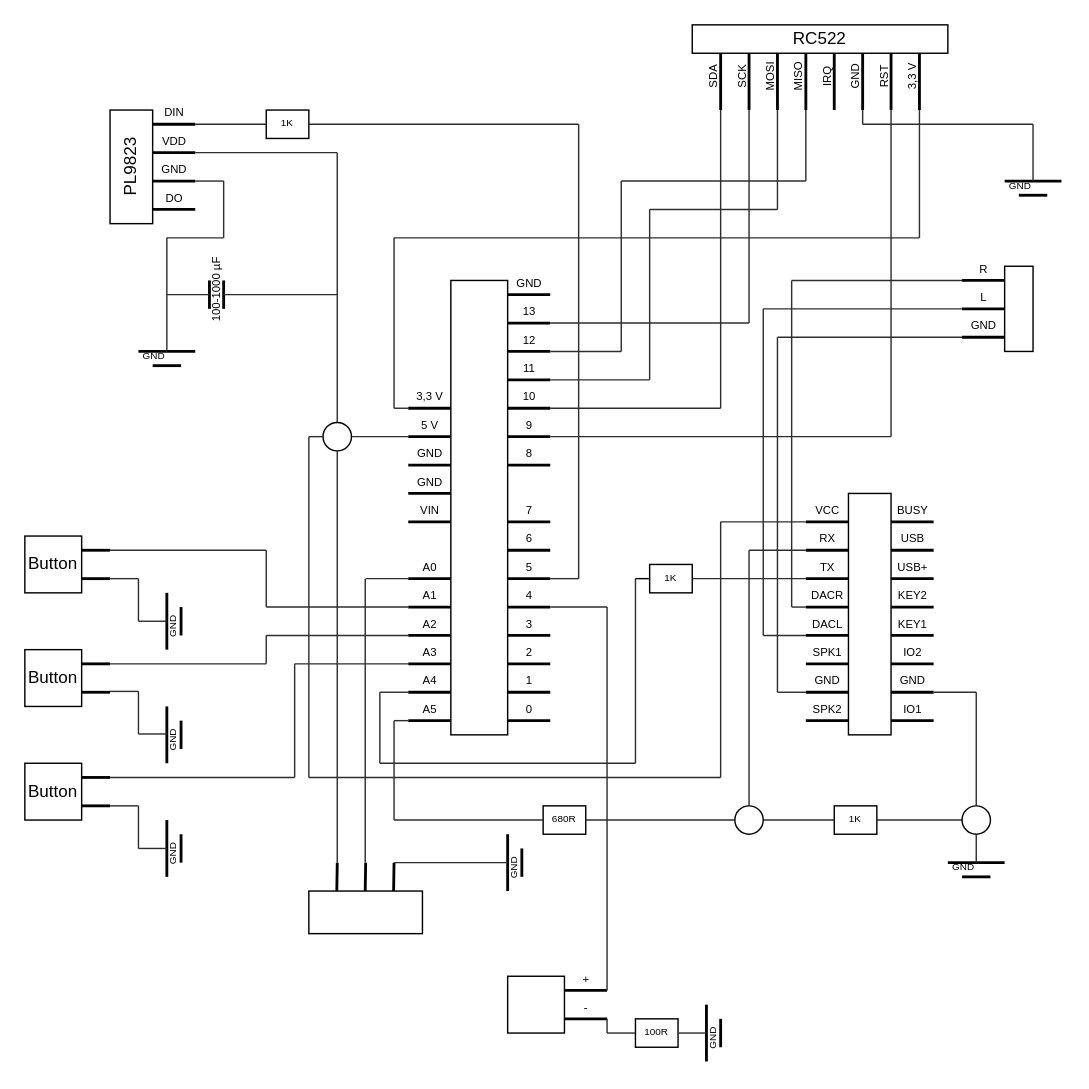
Some shapes in this 1089 by 1089 pixel diagram are drawn without their labels. The shapes that lost their labels are listed below. From the top down, each one's box as (x1, y1, x2, y2) in pixels, then its label:
(1003, 265, 1033, 351): Jack
(449, 279, 508, 735): Arduino UNO simplified
(847, 492, 891, 735): DFPlayer
(307, 890, 422, 934): Potentiometer
(506, 975, 564, 1033): Buzzer
